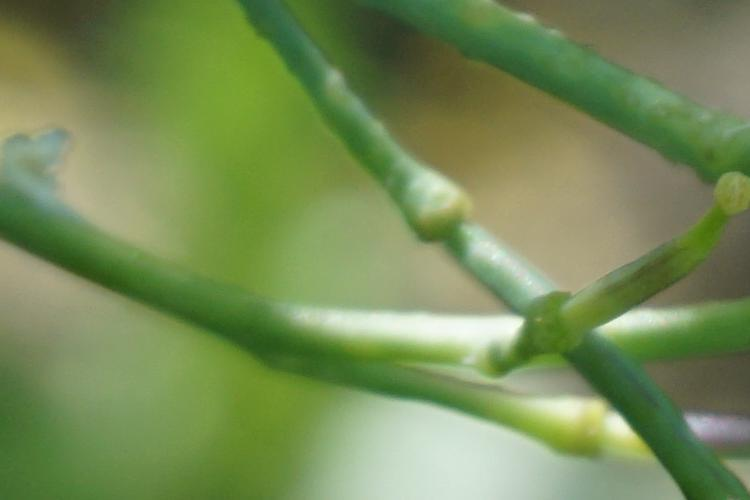pod: (456, 150, 750, 395)
